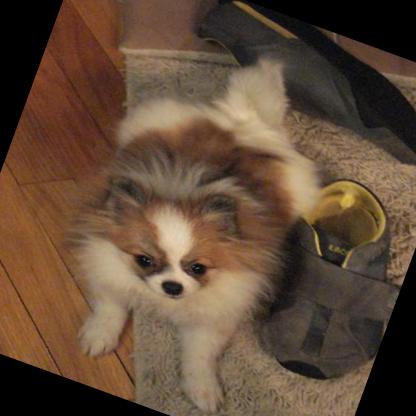Pomeranian: (26, 13, 355, 416)
